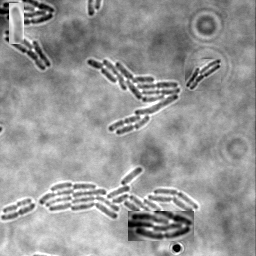Dividing: (1, 204, 37, 222), (3, 199, 33, 215)
Microcolony: (40, 167, 199, 238), (87, 59, 181, 136), (128, 211, 194, 241), (5, 30, 52, 72), (1, 1, 56, 26), (185, 59, 221, 91), (9, 3, 24, 44)
